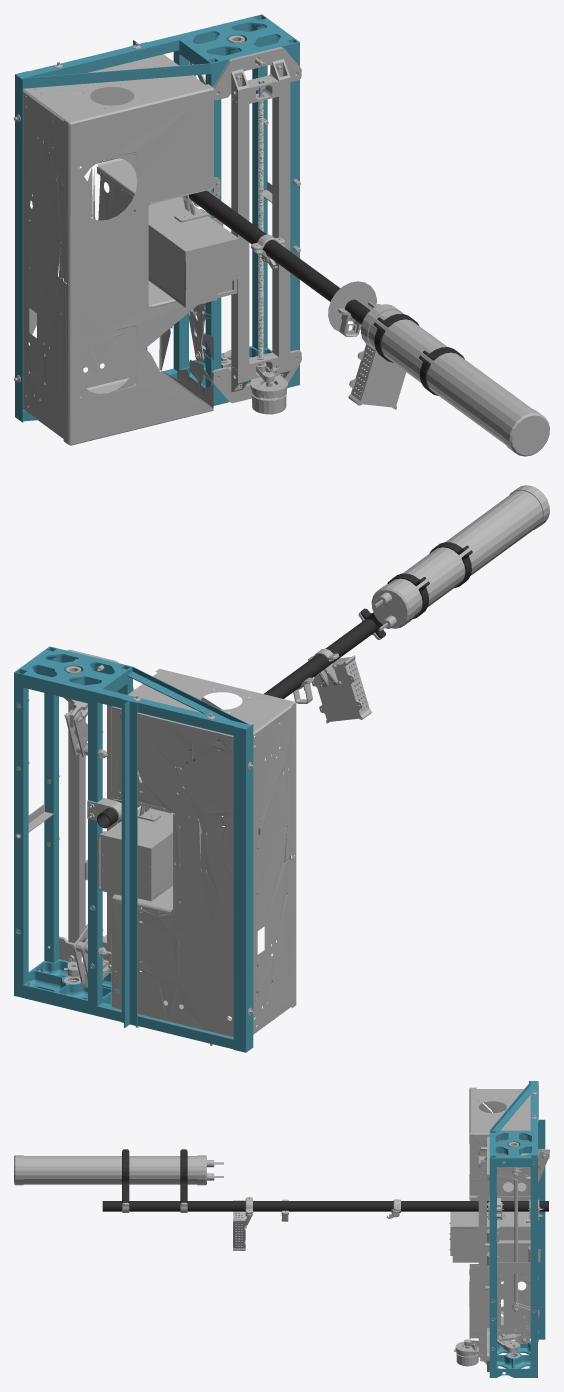
File: rover_chassis.glb
3 renders of one model, top to bottom at view 1: azimuth 30°, elevation 25°; view 2: azimuth 150°, elevation 25°; view 3: azimuth 270°, elevation 25°, orthographic. The views are drawn at different scales.
Visible parts, largest first — view 1: chassis_1, chassis_2, chassis_3; view 2: chassis_1, chassis_2, chassis_3; view 3: chassis_1, chassis_2, chassis_3.
Boxes of the visible parts, bbox=[...] form: chassis_1: bbox=[14, 35, 549, 456]; chassis_2: bbox=[15, 14, 299, 422]; chassis_3: bbox=[189, 190, 464, 395]; chassis_1: bbox=[15, 485, 549, 1045]; chassis_2: bbox=[14, 646, 253, 1052]; chassis_3: bbox=[97, 542, 472, 828]; chassis_1: bbox=[14, 1087, 549, 1371]; chassis_2: bbox=[489, 1081, 545, 1377]; chassis_3: bbox=[102, 1149, 548, 1211].
Bounding box in the file's own units: 48.65 × 65.09 × 140.
